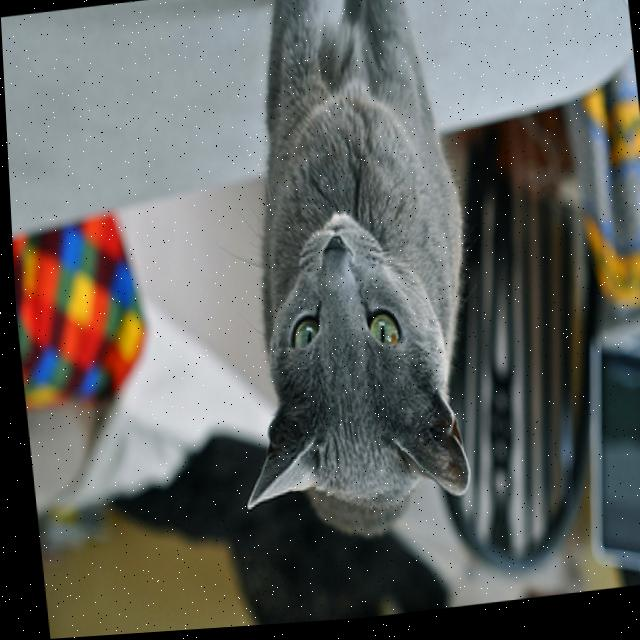Russian Blue: (191, 0, 491, 558)
